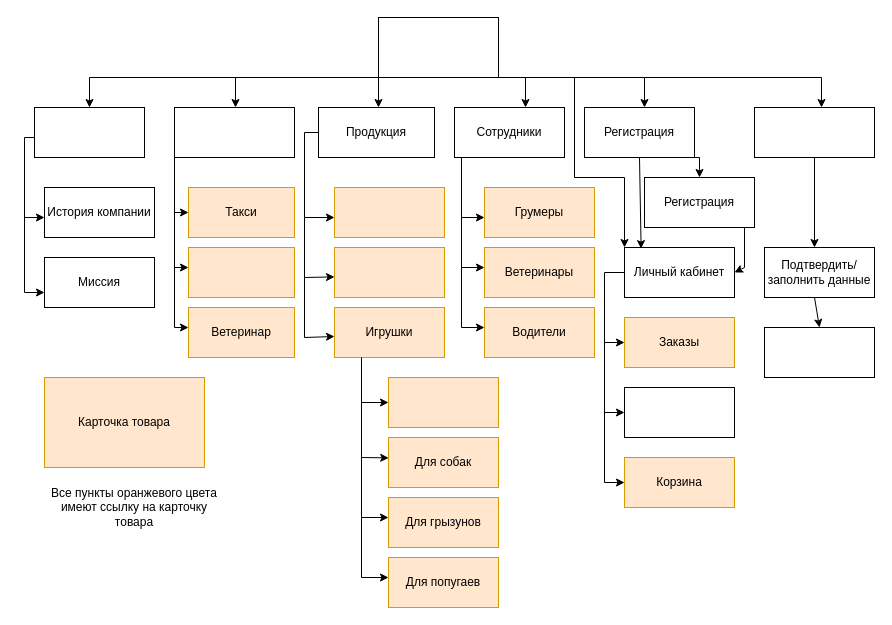
The diagram is 892 pixels wide and 625 high, and some of its shapes have lost their labels. Here are the shapes that lost their labels. From the top down, the box of each, then its label:
(378, 16, 498, 78): Главная страница
(34, 106, 144, 158): О компании
(174, 106, 294, 158): Услуги
(754, 106, 874, 158): Быстрая кнопка заказа такси
(334, 186, 444, 238): Корм
(188, 246, 294, 298): Груминг
(334, 246, 444, 298): Лакомства
(764, 326, 874, 378): Водитель уже в пути
(388, 376, 498, 428): Для кошек
(624, 386, 734, 438): Данные аккаунта
